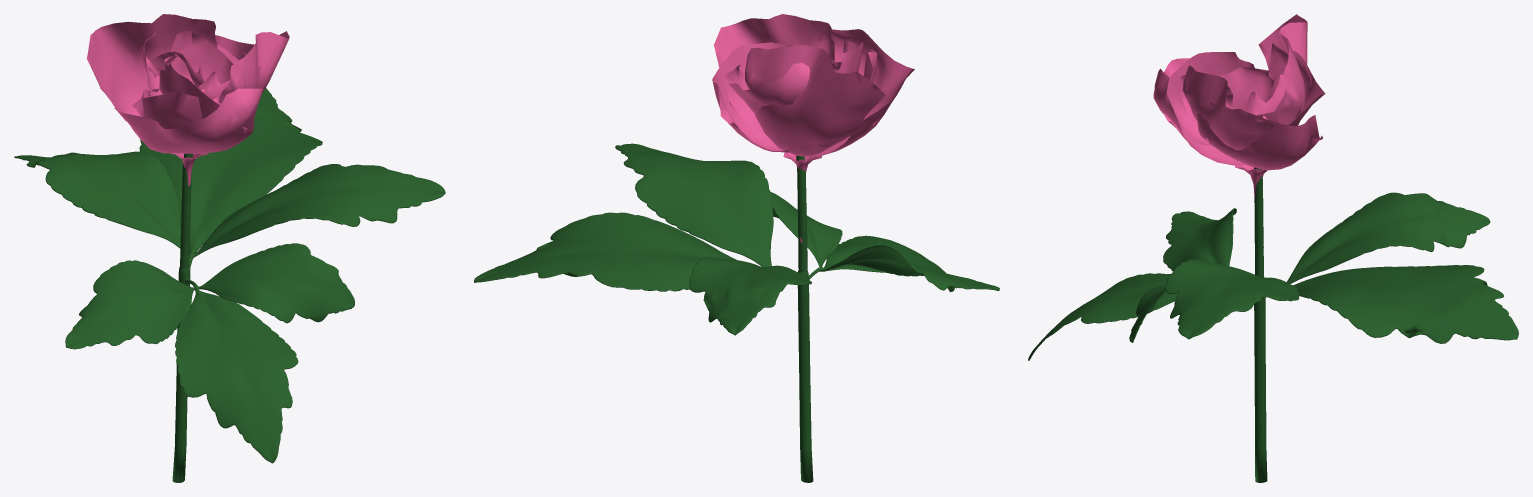
Rendered from peonylpinkcp.glb.
3 renders of one model, left to right at view 1: azimuth 30°, elevation 25°; view 2: azimuth 150°, elevation 25°; view 3: azimuth 270°, elevation 25°, orthographic. The views are drawn at different scales.
Visible parts, largest first — view 1: maki.001; view 2: maki.001; view 3: maki.001.
Part boxes in pixels (x1,y1,x2,y2): maki.001: (14,14,445,482); maki.001: (474,14,999,482); maki.001: (1028,14,1518,482).
Size of the model in its own units: 2.99 by 3.4 by 3.42.
